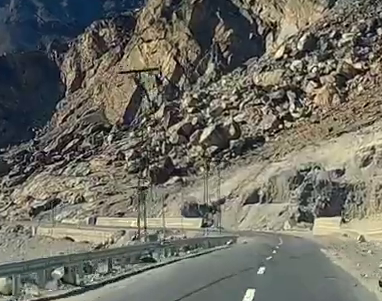right: (198, 207, 357, 280)
